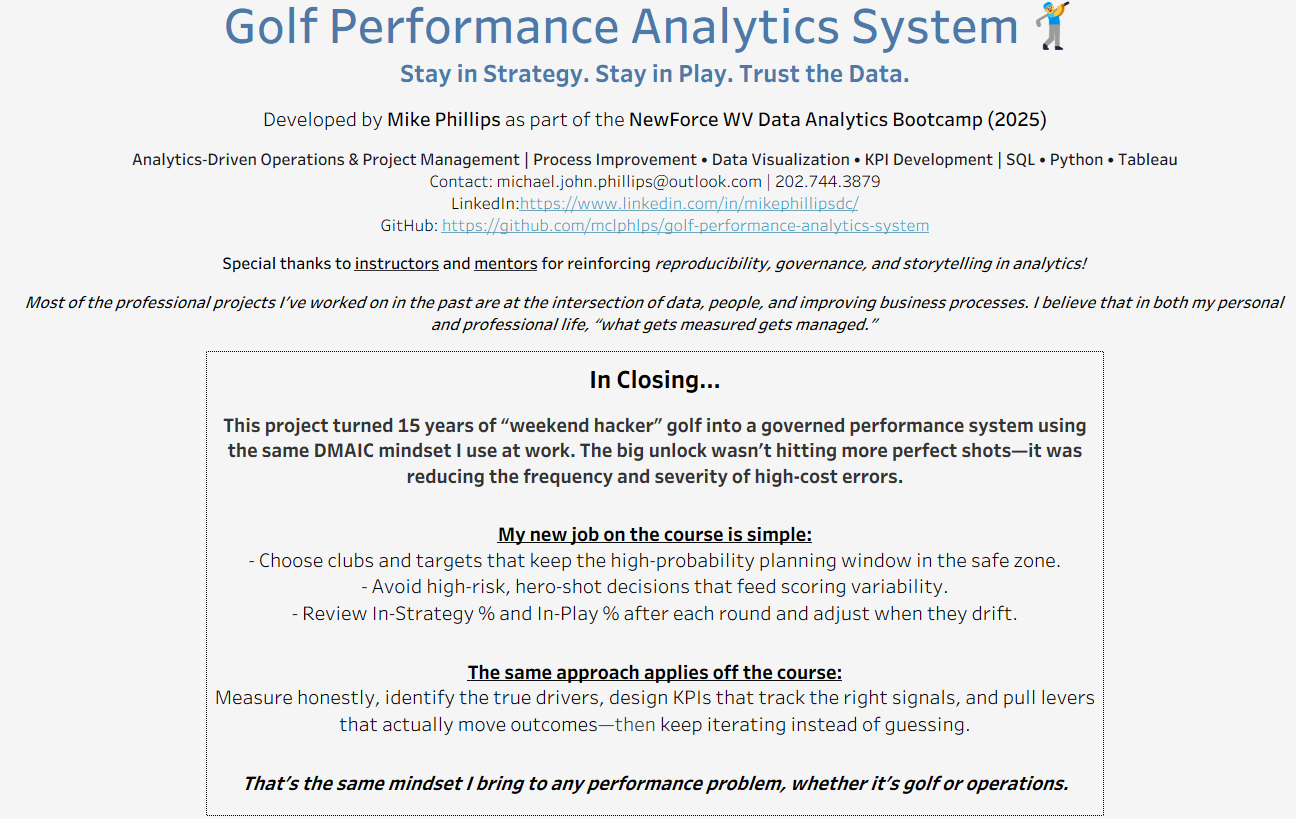

The dashboard page shown, as its layout file describes it:
{"tool":"tableau","page":{"name":"10. Closing","canvas":[1300,850],"ordinal":1},"visuals":[{"type":"text","box":[8,8,1284,361]},{"type":"blank","box":[8,369,189,473]},{"type":"text","box":[197,369,906,473]},{"type":"blank","box":[1103,369,189,473]}]}

Visuals, with their boxes on the page's 1300x850 design canvas (x1, y1, x2, y2). These are canvas units, not pixel positions in the 1296x819 screenshot, which may show the page scaled, cropped or inside an application window:
text: BBox(8, 8, 1292, 369)
blank: BBox(8, 369, 197, 842)
text: BBox(197, 369, 1103, 842)
blank: BBox(1103, 369, 1292, 842)
